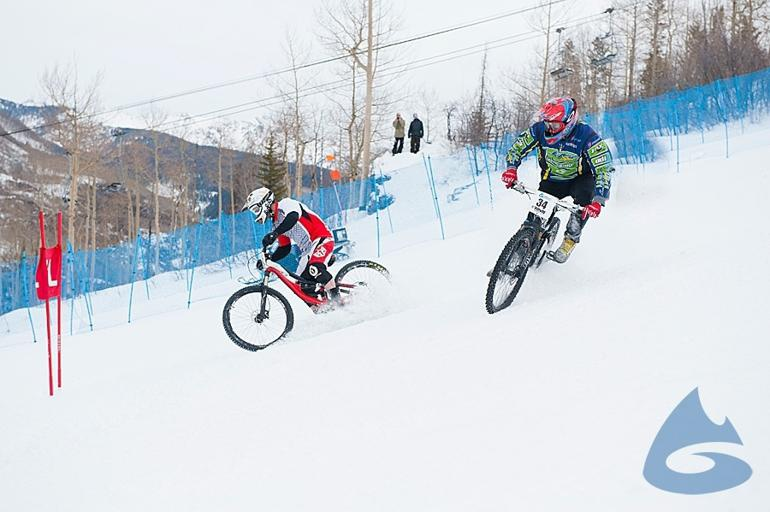non-vehicle: (218, 244, 395, 349), (481, 177, 575, 315)
